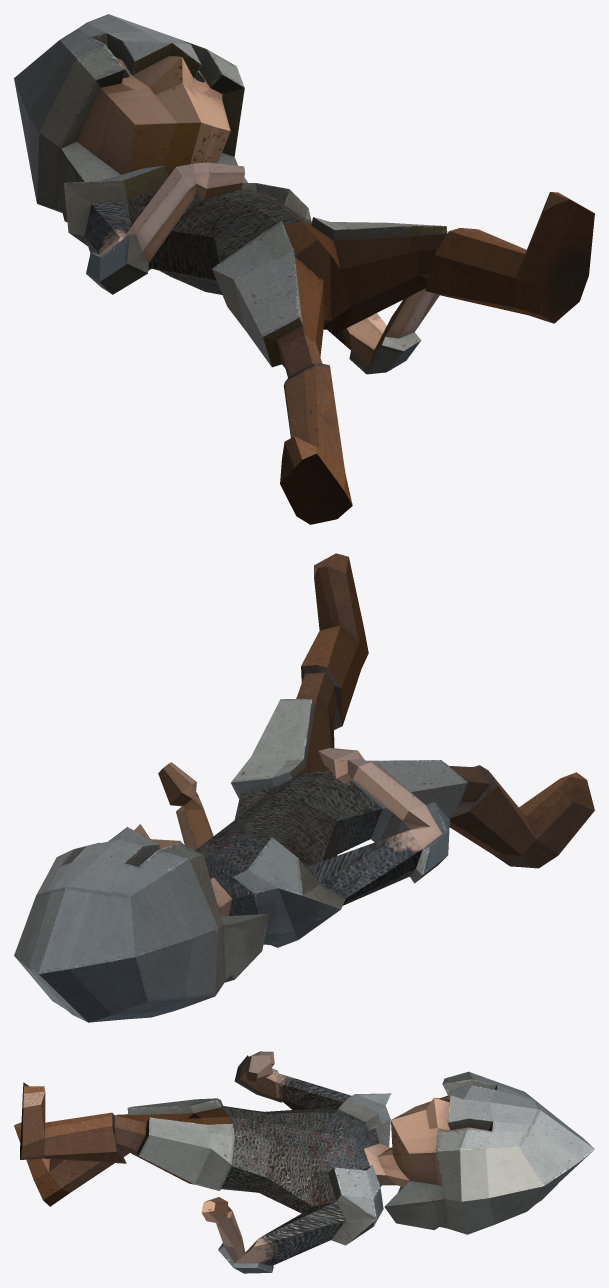
The model's file is Walk_Soldier_18.obj.
The picture shows the model from 3 angles, top to bottom: view 1: azimuth 30°, elevation 25°; view 2: azimuth 150°, elevation 25°; view 3: azimuth 270°, elevation 25°; orthographic projection. The views are drawn at different scales.
Parts seen in each view (by area): view 1: Soldado_LowPolySTD; view 2: Soldado_LowPolySTD; view 3: Soldado_LowPolySTD.
Boxes of the visible parts, bbox=[...] form: Soldado_LowPolySTD: bbox=[14, 14, 594, 524]; Soldado_LowPolySTD: bbox=[14, 553, 594, 1022]; Soldado_LowPolySTD: bbox=[14, 1051, 594, 1273].
Size of the model in its own units: 0.7646 by 0.5896 by 1.59.
